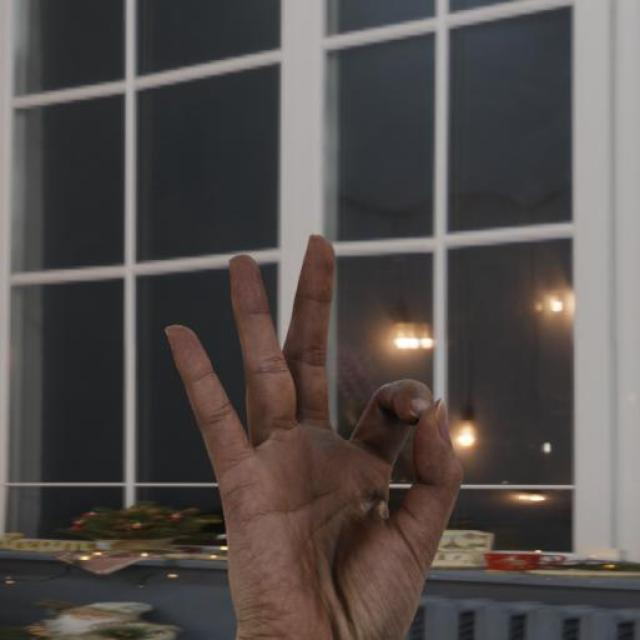F: (159, 225, 464, 640)
